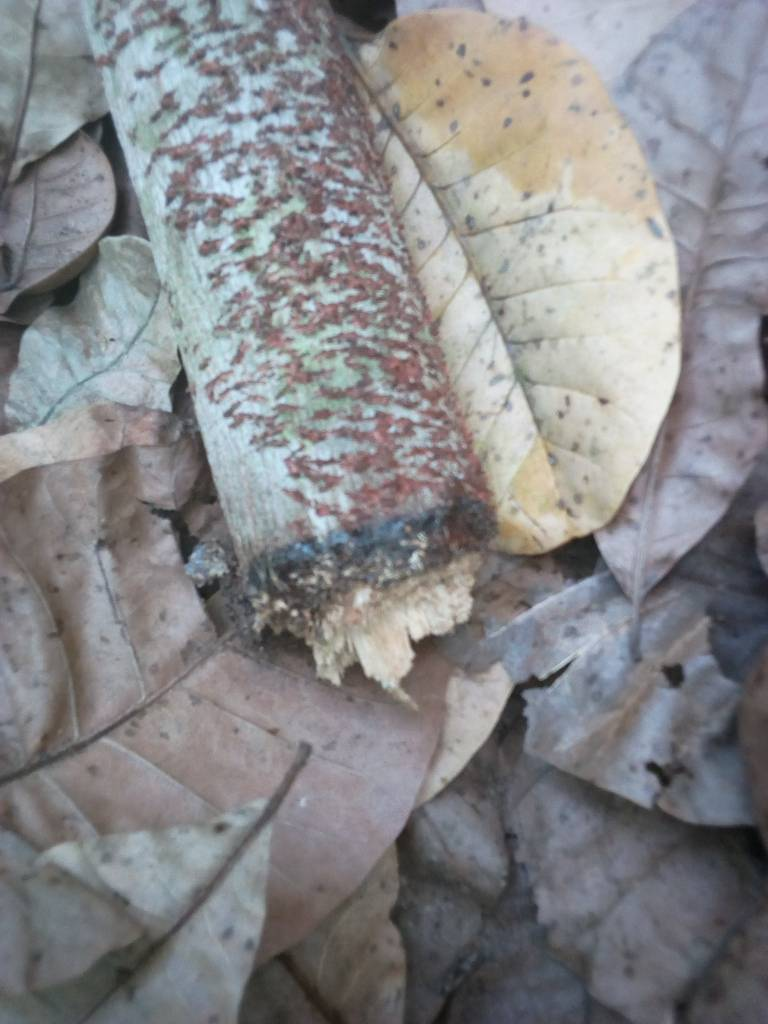Analepse trifasciata: (238, 505, 572, 724)
